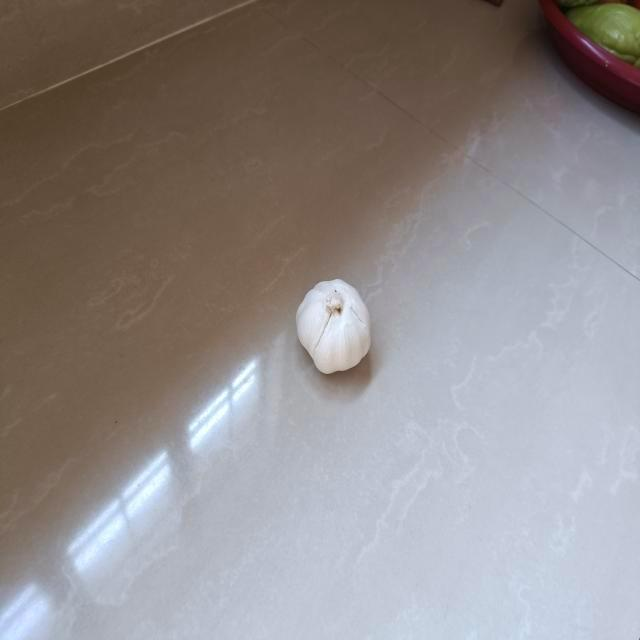garlic: (291, 272, 374, 378)
